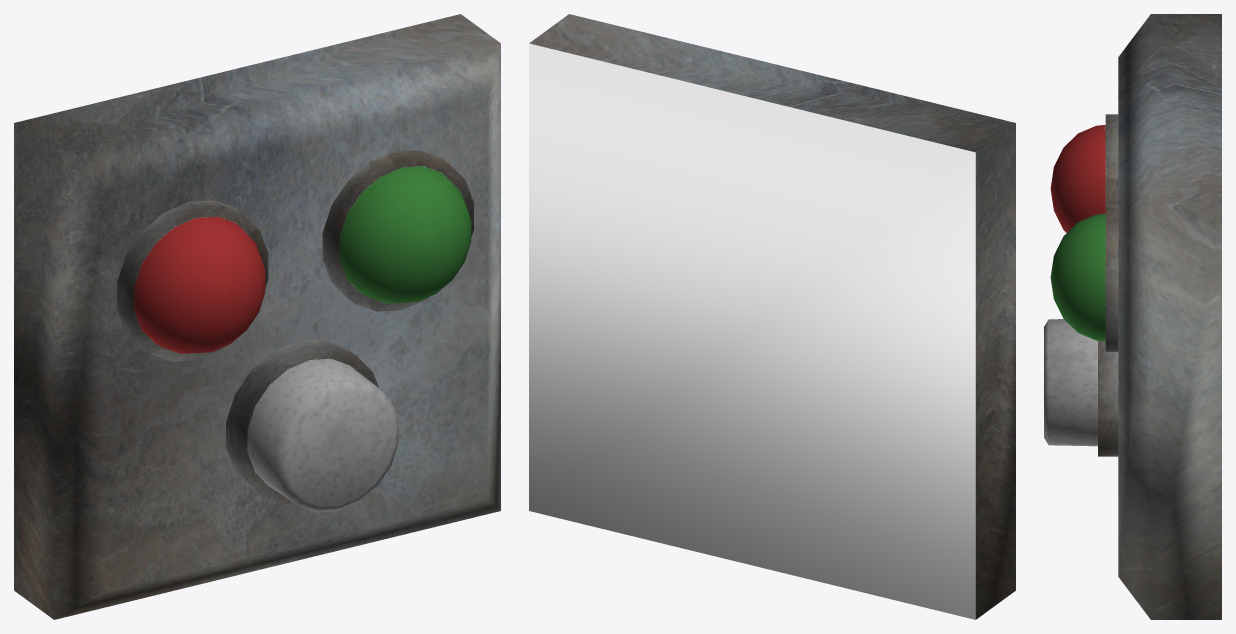
File: Light_Button_Switch.fbx
3 renders of one model, left to right at view 1: azimuth 30°, elevation 25°; view 2: azimuth 150°, elevation 25°; view 3: azimuth 270°, elevation 25°, orthographic. The views are drawn at different scales.
Visible parts, largest first — view 1: Light_button_switch; view 2: Light_button_switch; view 3: Light_button_switch.
Part boxes in pixels (left/top/right/bottom): Light_button_switch: left=14, top=14, right=500, bottom=619; Light_button_switch: left=529, top=14, right=1015, bottom=619; Light_button_switch: left=1044, top=14, right=1221, bottom=619.
Bounding box in the file's own units: 5.95 × 5.95 × 2.32.
